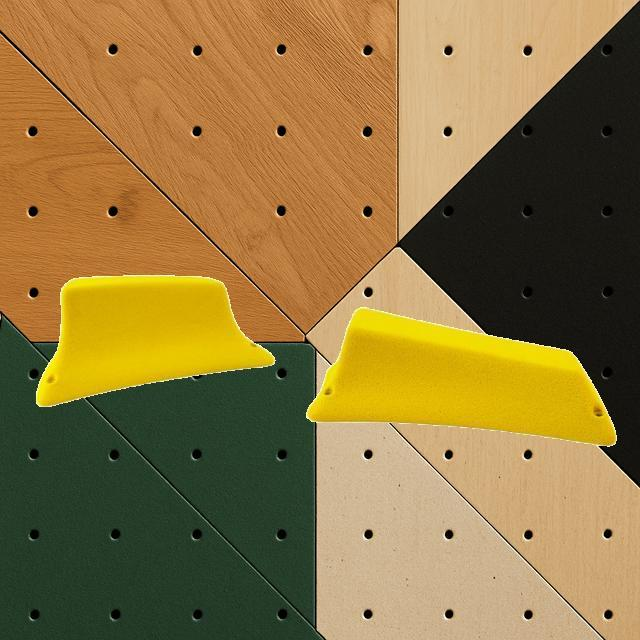Pinch: (306, 306, 616, 446), (36, 274, 274, 406)
